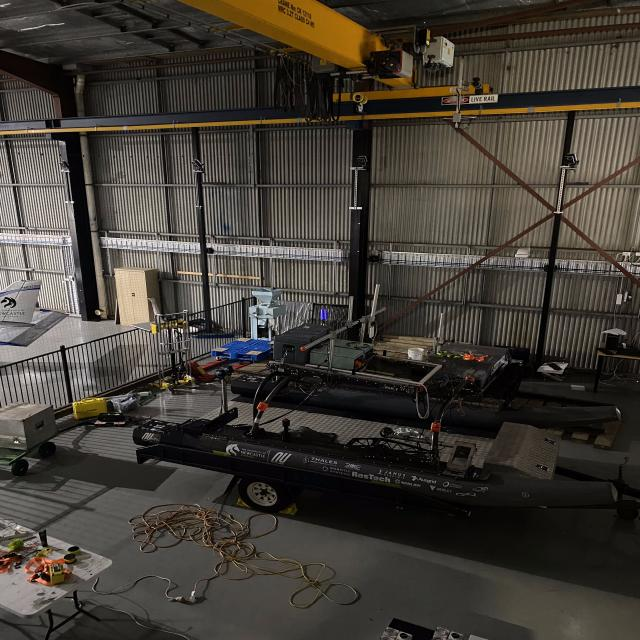matrix: (318, 308, 329, 322)
